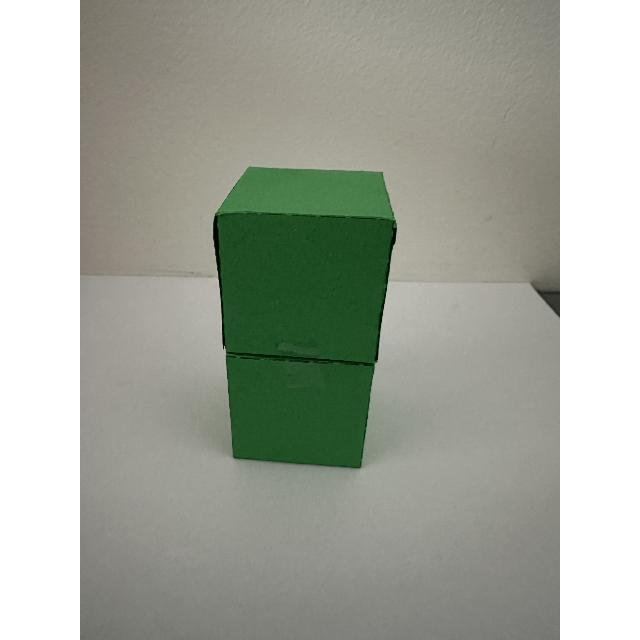green_cube: (207, 154, 407, 480)
